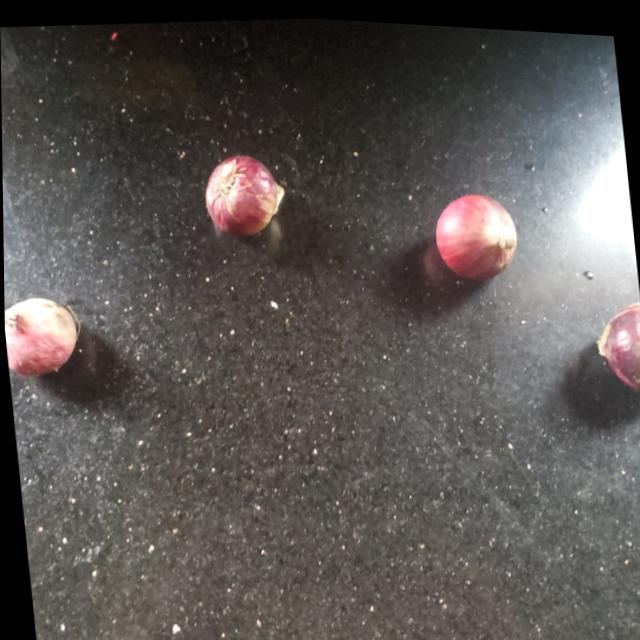onion: (430, 184, 521, 278), (199, 144, 286, 234), (3, 291, 81, 379), (593, 292, 640, 393)
